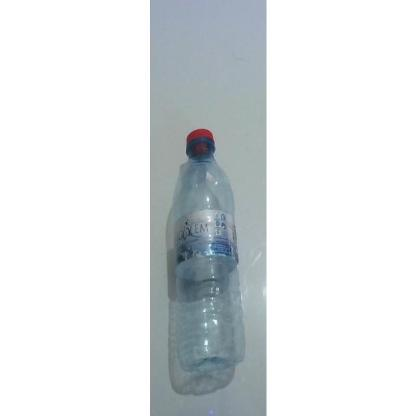Plastic Bottle: (166, 129, 246, 396)
